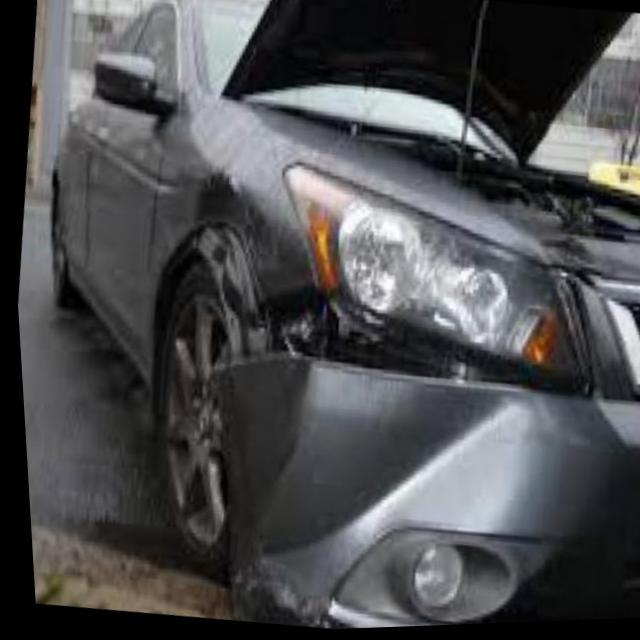dislocated part: (186, 163, 588, 631)
